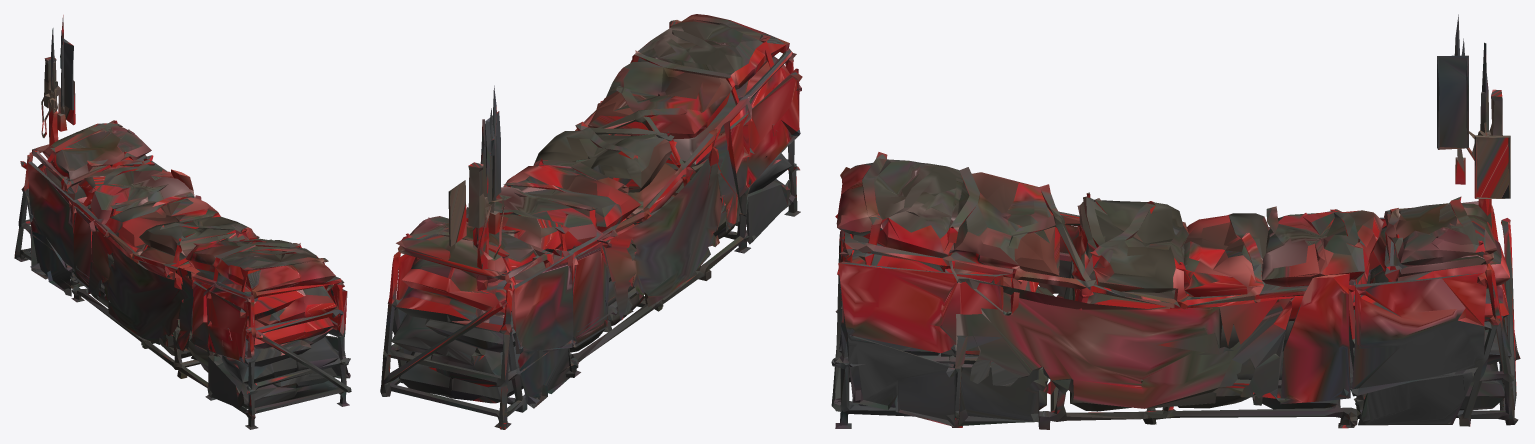
The picture shows the model from 3 angles, left to right: view 1: azimuth 30°, elevation 25°; view 2: azimuth 150°, elevation 25°; view 3: azimuth 270°, elevation 25°; orthographic projection. The views are drawn at different scales.
Parts seen in each view (by area): view 1: k05; view 2: k05; view 3: k05.
Boxes of the visible parts, x1,y1,x2,y2 form: k05: [14, 15, 351, 429]; k05: [380, 14, 802, 429]; k05: [831, 14, 1520, 429].
Bounding box in the file's own units: 3.13 × 6 × 10.24.
Materials: 1 (1 with a texture image).
